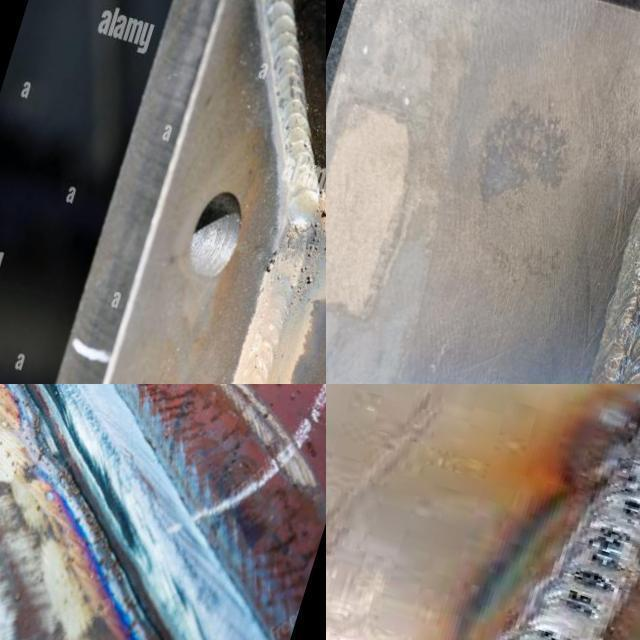defect: (578, 523, 636, 580), (565, 563, 618, 596), (563, 585, 603, 620), (303, 221, 326, 259), (534, 624, 572, 640), (617, 496, 640, 521), (615, 317, 636, 344), (606, 353, 627, 376), (263, 260, 275, 274), (306, 271, 317, 286), (289, 278, 298, 290), (299, 264, 309, 273)
